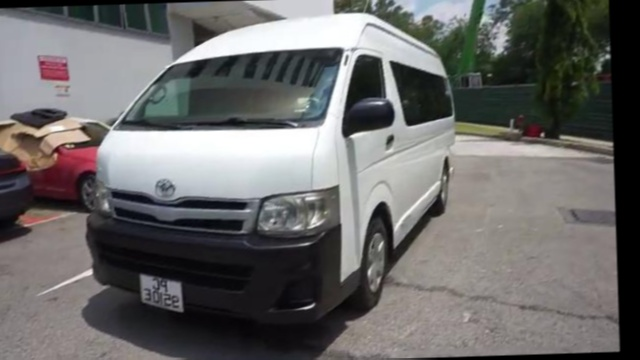van: (68, 10, 468, 337)
